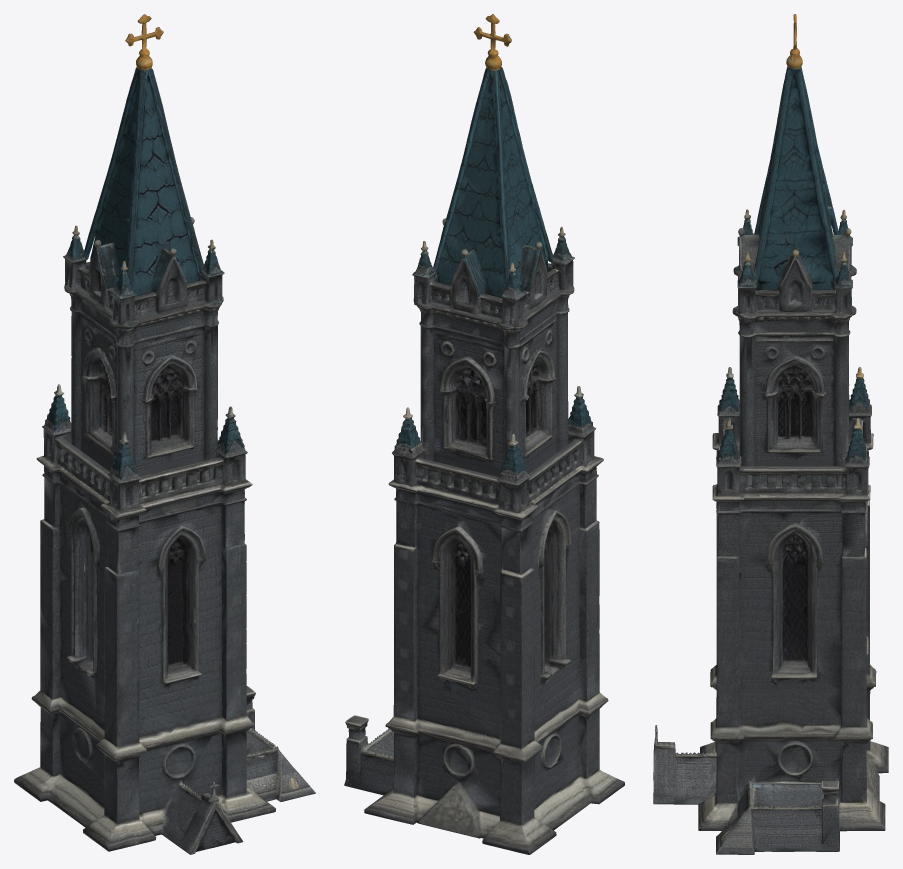
Rendered from gothic_tower.glb.
The picture shows the model from 3 angles, left to right: view 1: azimuth 30°, elevation 25°; view 2: azimuth 150°, elevation 25°; view 3: azimuth 270°, elevation 25°; orthographic projection.
Size of the model in its own units: 0.5499 by 1.9 by 0.5226.
Materials: 1 (1 with a texture image).
